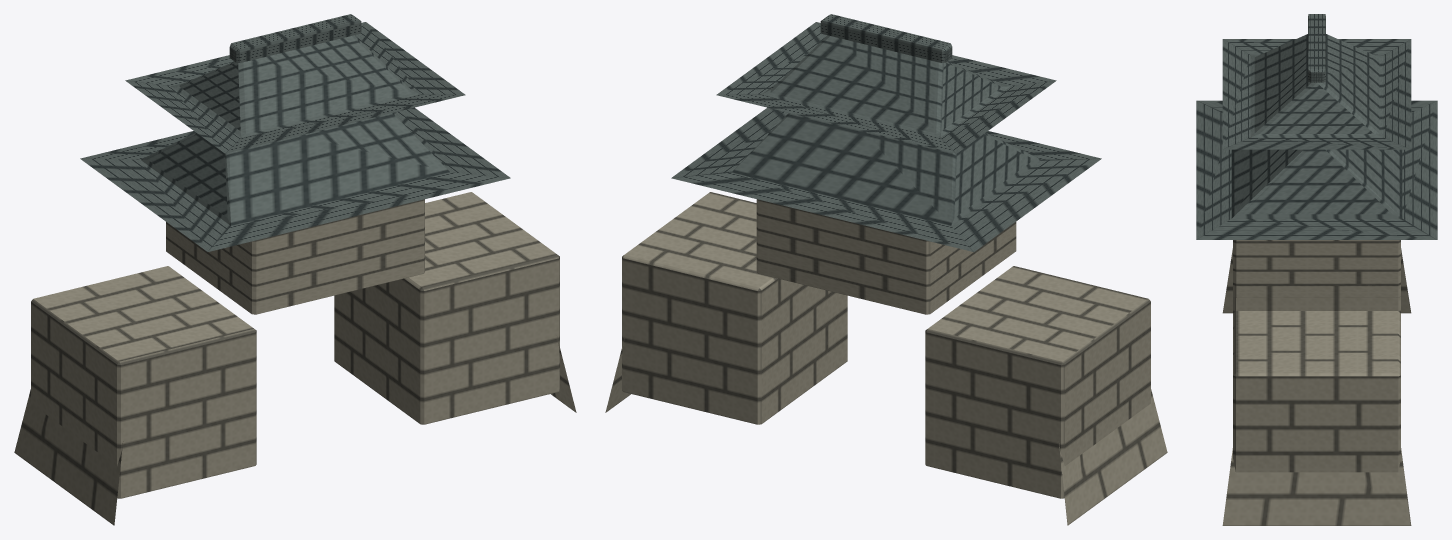
File: gate-v121-lod1.glb
3 renders of one model, left to right at view 1: azimuth 30°, elevation 25°; view 2: azimuth 150°, elevation 25°; view 3: azimuth 270°, elevation 25°, orthographic. The views are drawn at different scales.
Size of the model in its own units: 0.96 by 0.796 by 0.46.
1 material, 1 textured.
